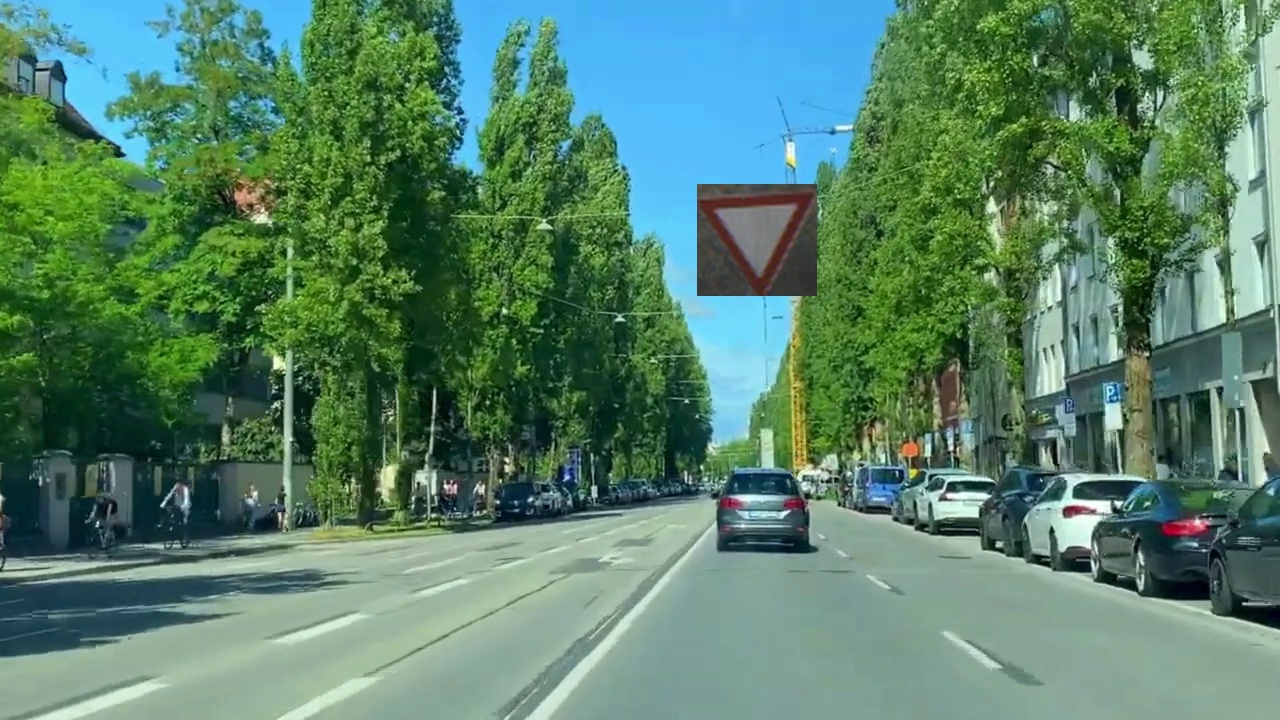Yield: (697, 184, 817, 296)
